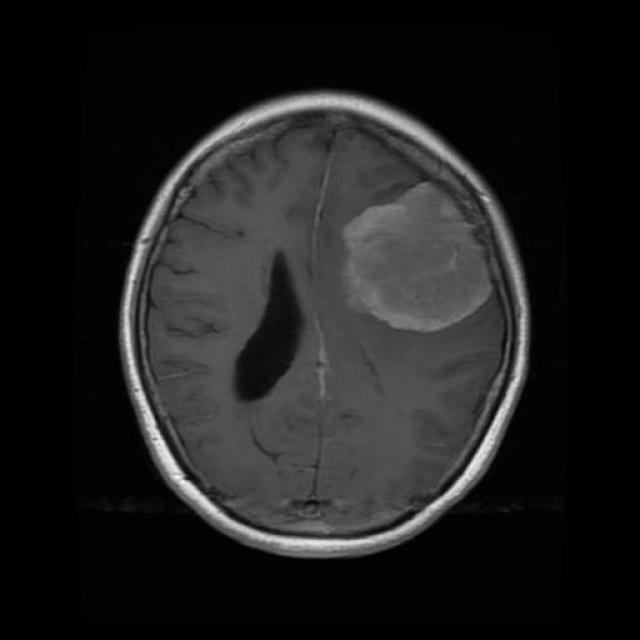Tumor: (340, 180, 499, 328)
